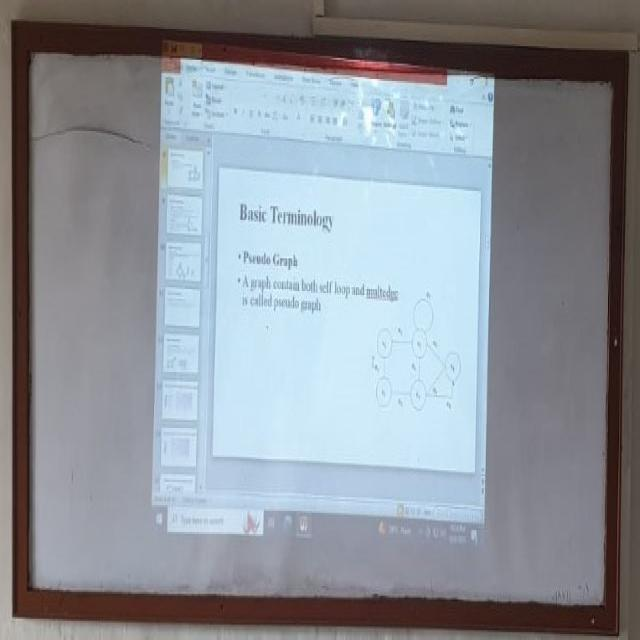Slide: (147, 37, 495, 547)
White-board: (18, 32, 625, 617)
